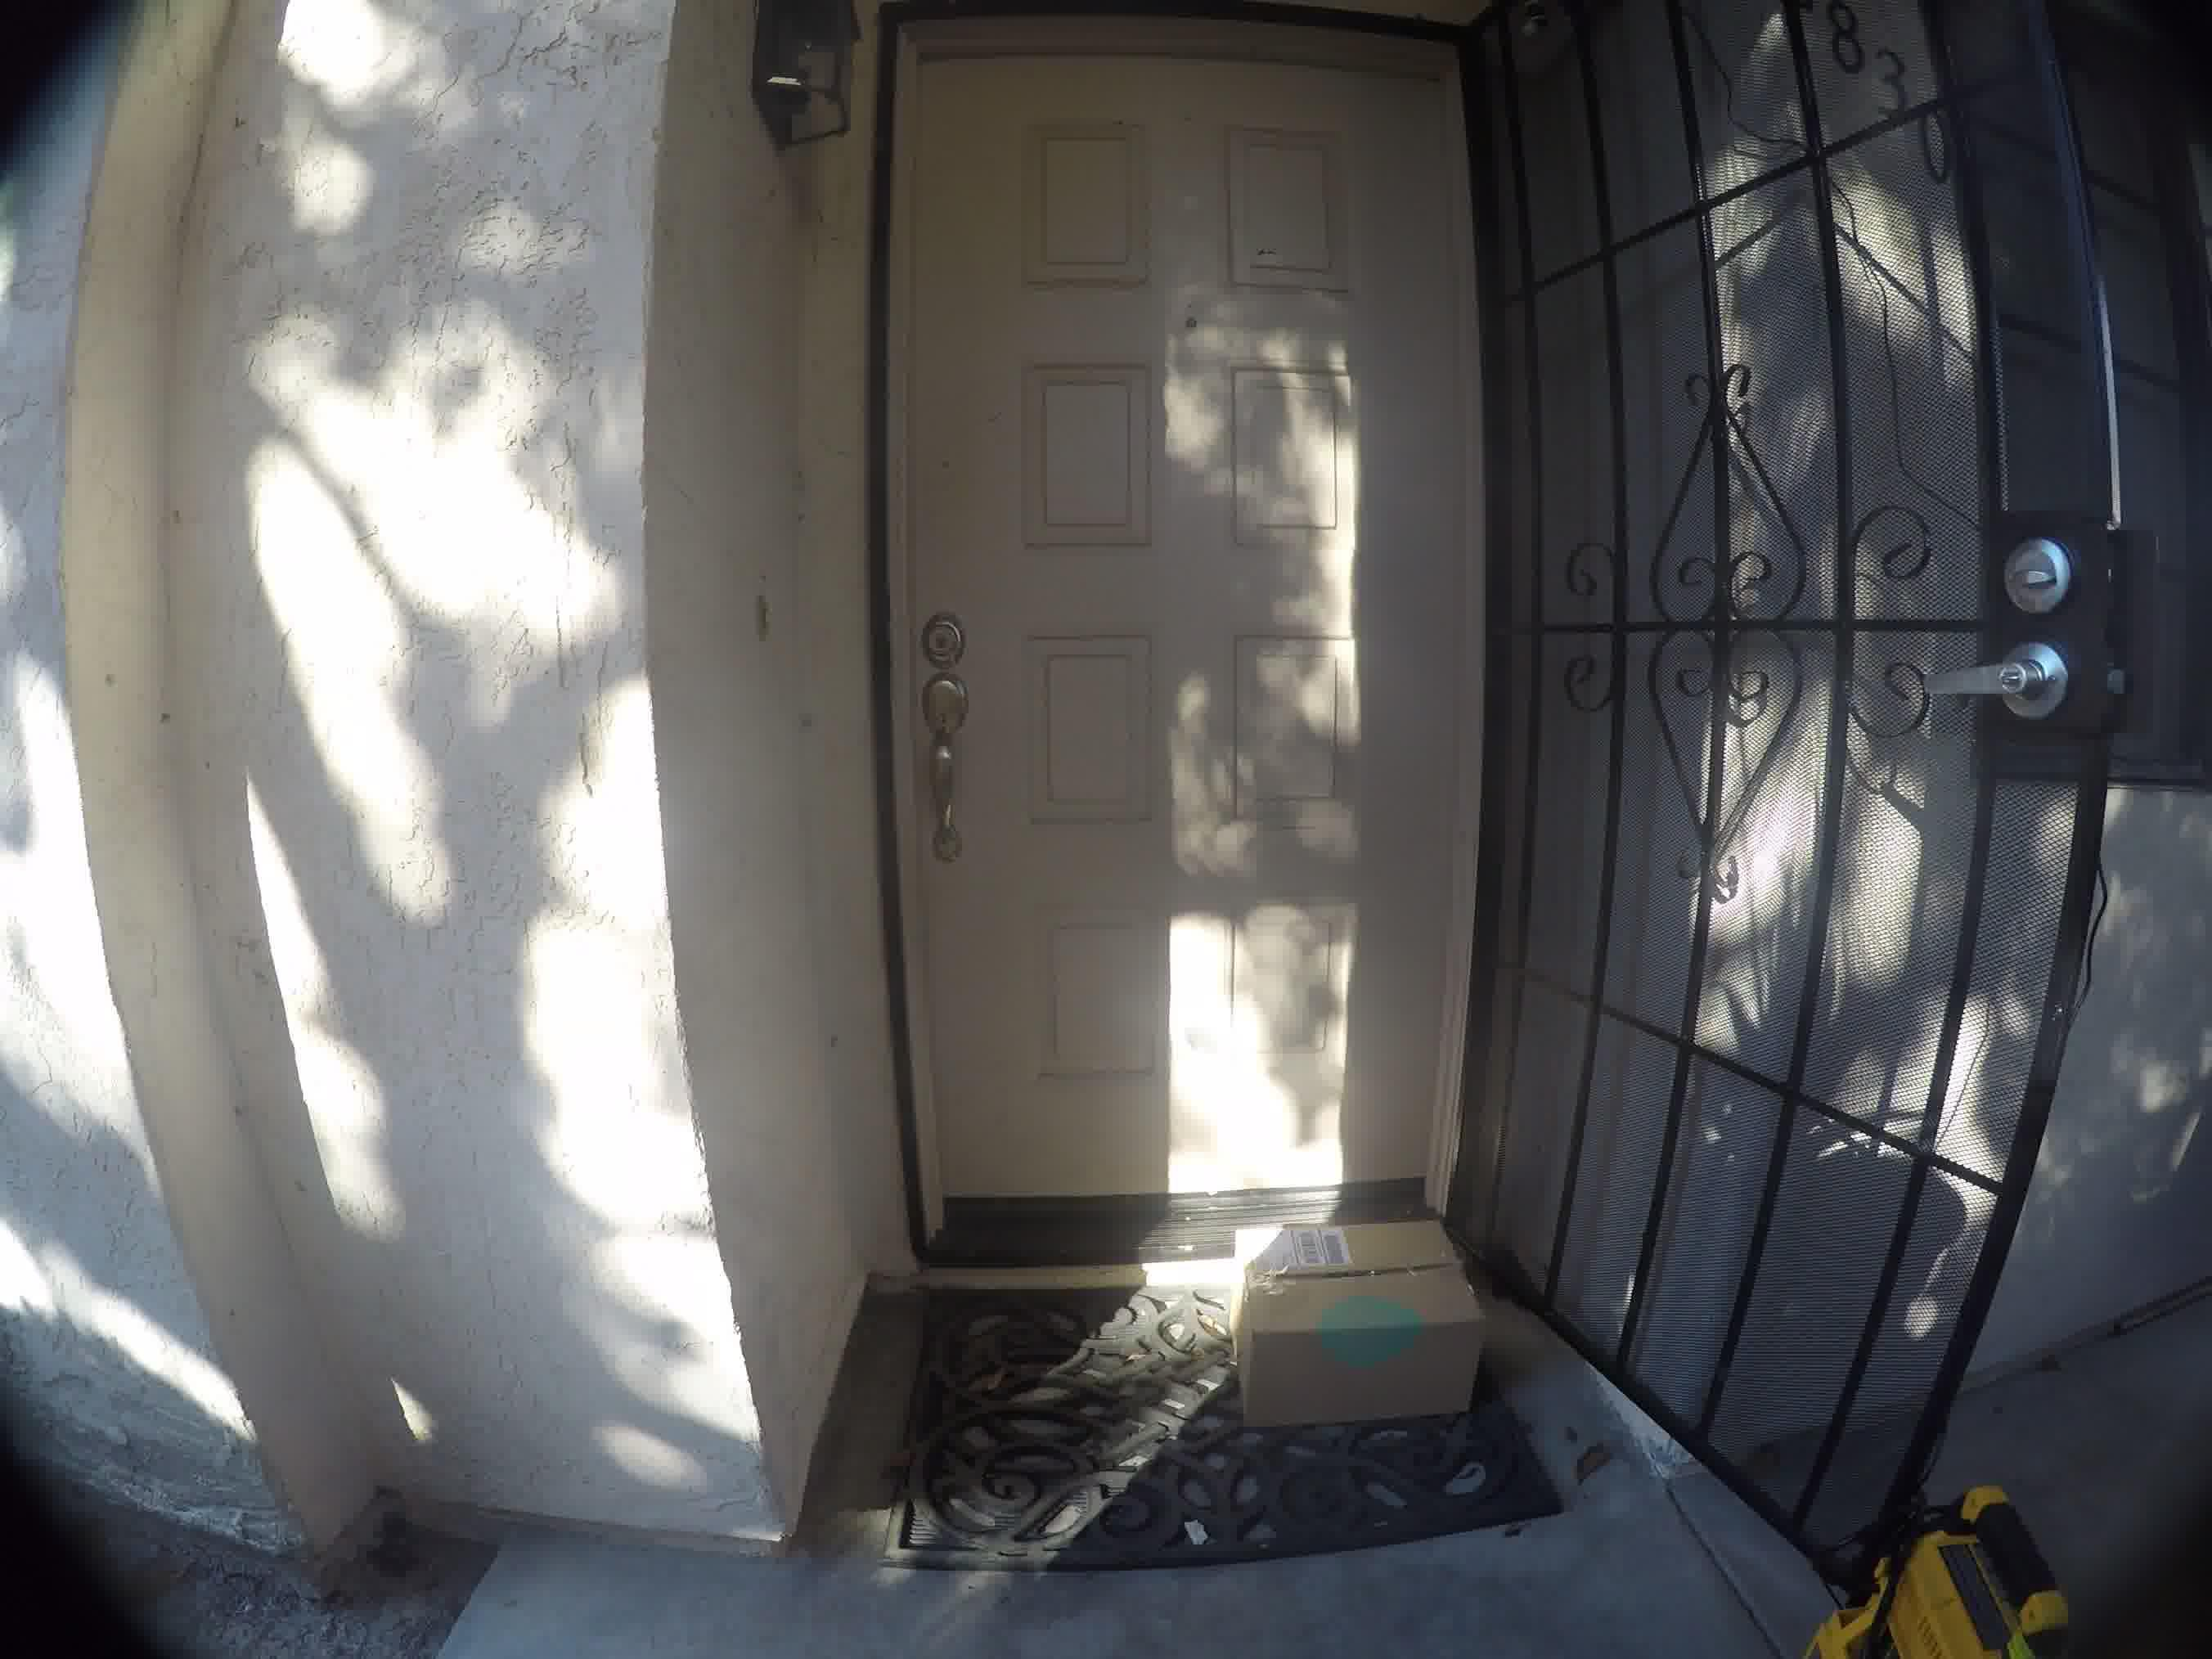box: (1211, 1201, 1489, 1438)
